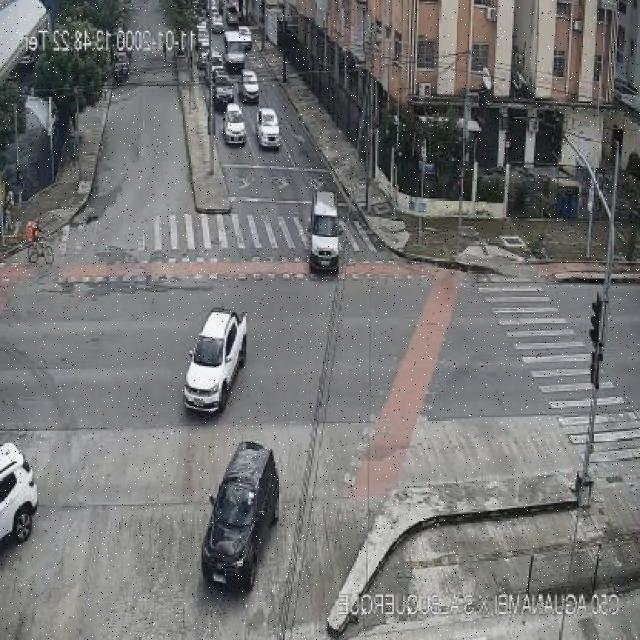Car: (203, 435, 284, 595), (184, 303, 252, 417), (308, 192, 340, 274), (256, 108, 282, 150), (222, 103, 246, 147), (238, 70, 260, 103), (212, 74, 232, 107), (207, 54, 224, 82)
Truck: (222, 32, 245, 72)
